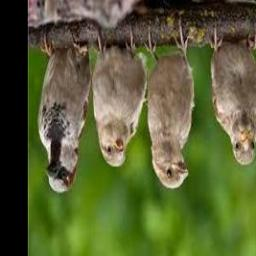Sparrow: (37, 34, 91, 195), (145, 21, 194, 189), (92, 35, 147, 168), (209, 22, 256, 165)
